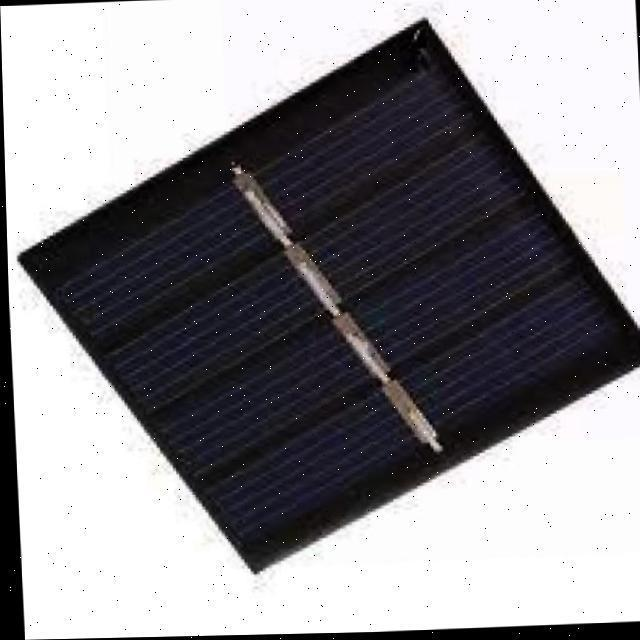Normal Solar Panel: (11, 25, 640, 581)
